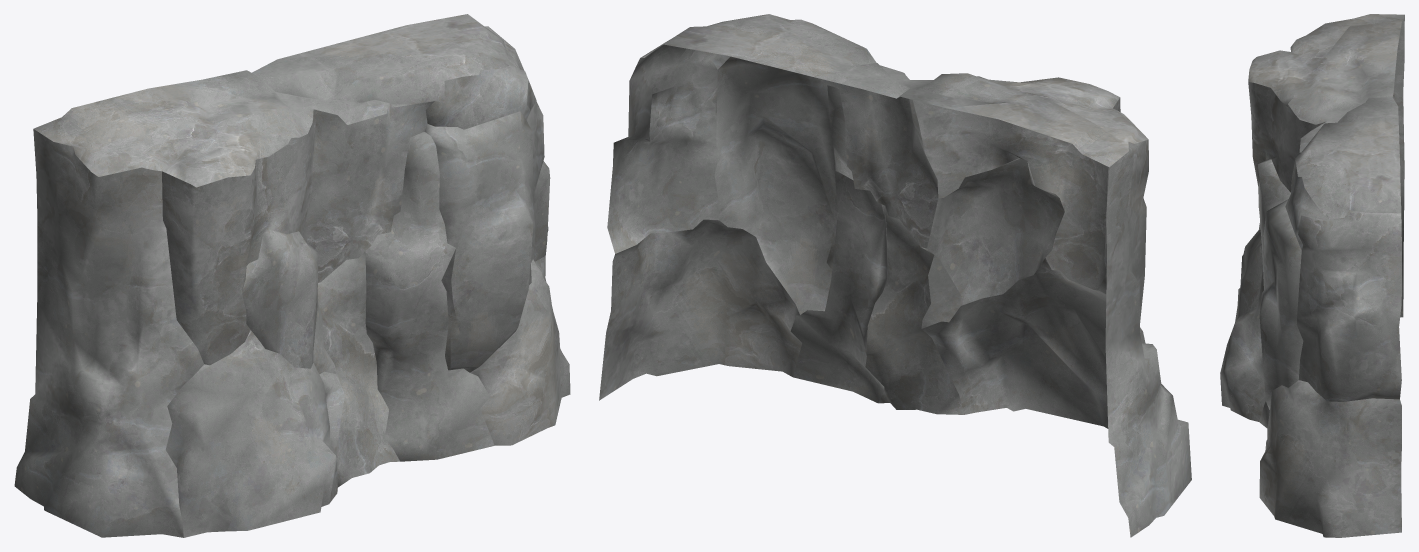
Rendered from SM_Com_Roc_66AS.fbx.
The picture shows the model from 3 angles, left to right: view 1: azimuth 30°, elevation 25°; view 2: azimuth 150°, elevation 25°; view 3: azimuth 270°, elevation 25°; orthographic projection. The views are drawn at different scales.
Visible parts, largest first — view 1: SM_Com_Roc_66AS.mo; view 2: SM_Com_Roc_66AS.mo; view 3: SM_Com_Roc_66AS.mo.
Part boxes in pixels (<box>): SM_Com_Roc_66AS.mo: <box>14,14,570,537</box>; SM_Com_Roc_66AS.mo: <box>599,14,1191,537</box>; SM_Com_Roc_66AS.mo: <box>1220,14,1404,537</box>.
Bounding box in the file's own units: 27.99 × 19.28 × 9.83.
